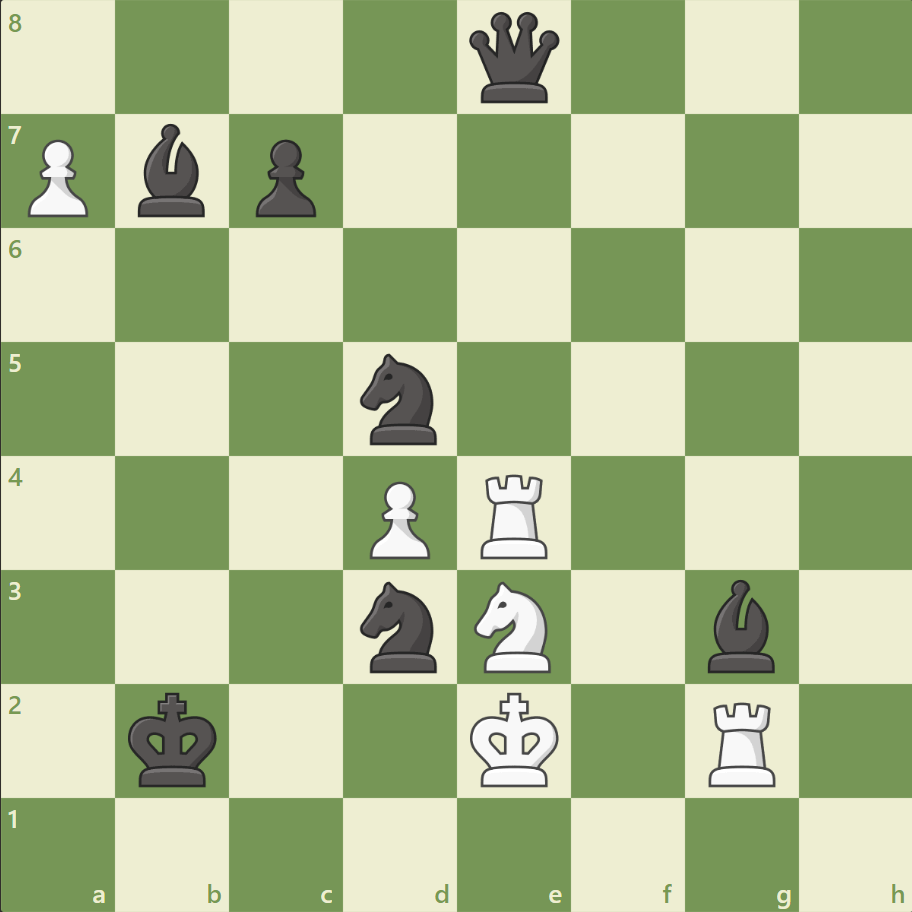K: (465, 685, 565, 793)
N: (465, 575, 562, 677)
P: (20, 132, 95, 223), (361, 473, 435, 564)
R: (473, 466, 556, 563), (700, 693, 783, 790)
b: (131, 120, 215, 222), (698, 574, 782, 676)
k: (124, 685, 224, 793)
n: (351, 348, 449, 450), (351, 575, 449, 677)
p: (247, 132, 322, 223)
q: (464, 9, 563, 108)
